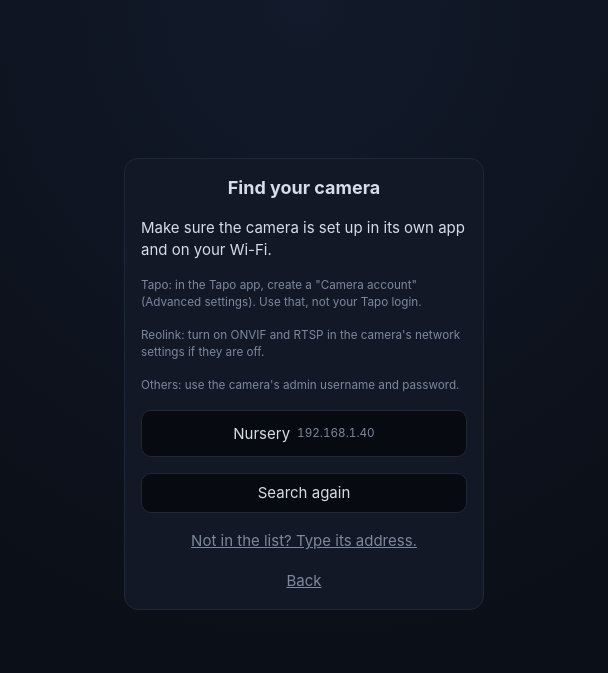
Test: typed rtsp URL goes to check
Click the button "Not in the list? Type its address." at (304, 541), box [141, 529, 467, 553]
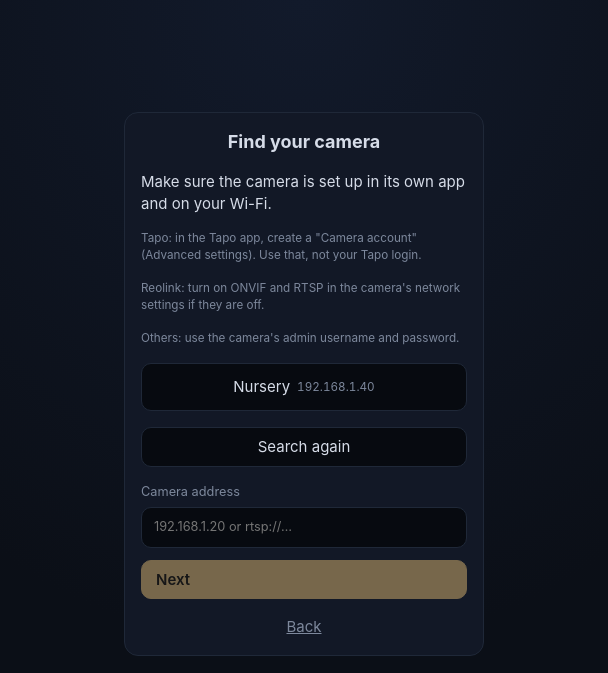
Type "rtsp://192.168.1.41:554/live" into the field labelled "Camera address" at (304, 527), box [141, 507, 467, 548]
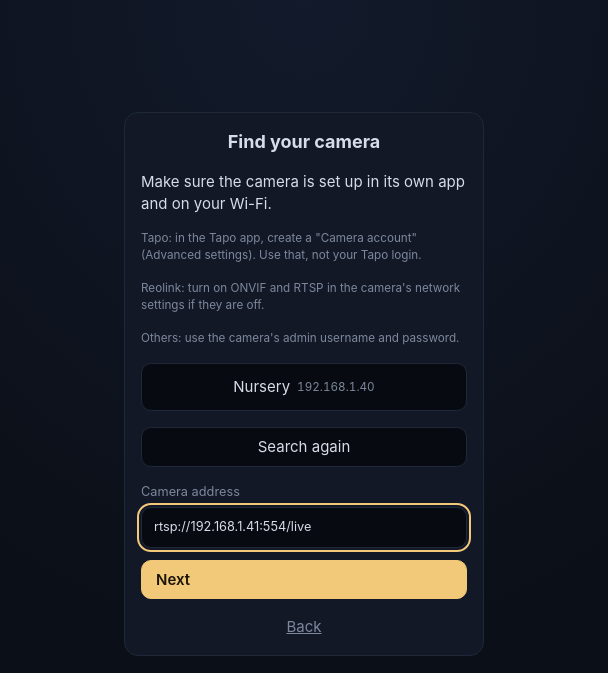
Click the button "Next" at (173, 579), box [141, 560, 467, 600]
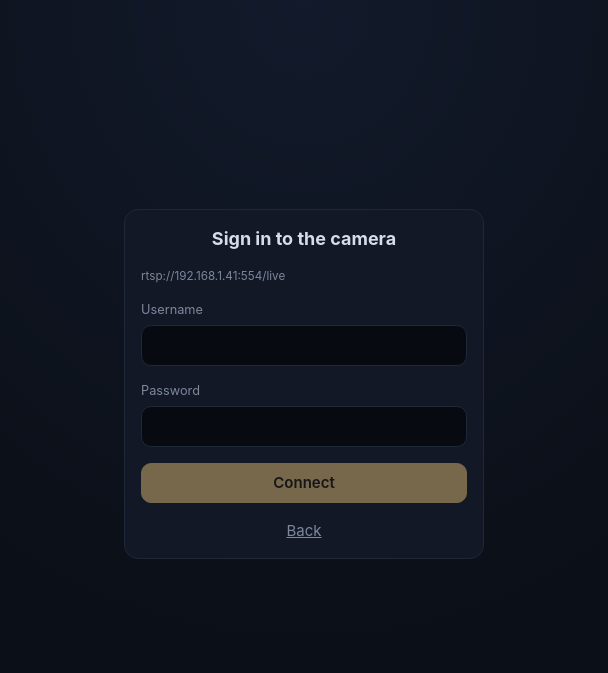
Type "admin" into the field labelled "Username" at (304, 346), box [141, 325, 467, 366]
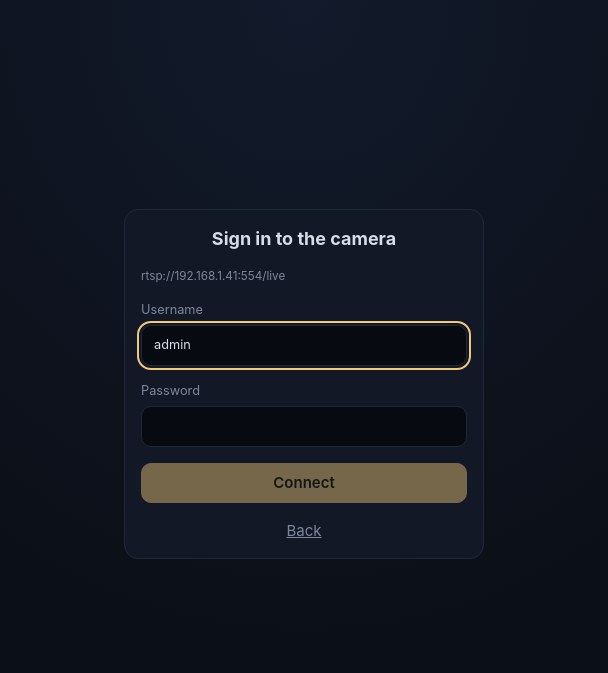
Type "cam-pass" into the password field labelled "Password" at (304, 427), box [141, 406, 467, 447]
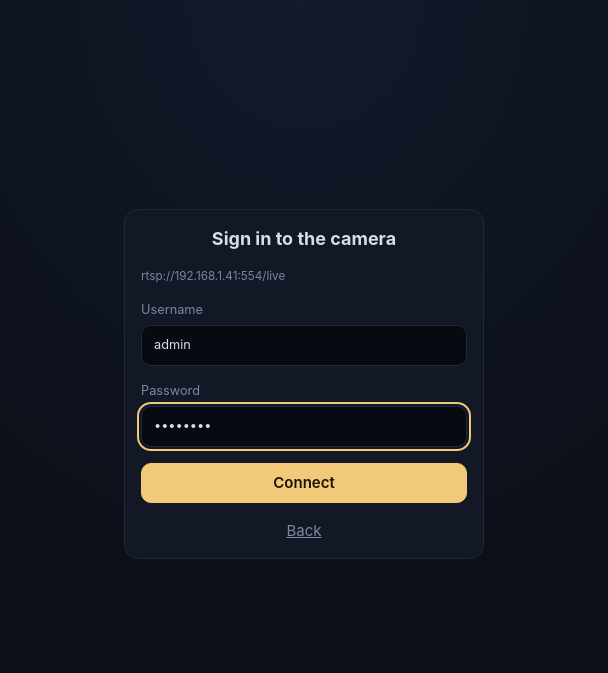
Click the button "Connect" at (304, 483), box [141, 463, 467, 503]
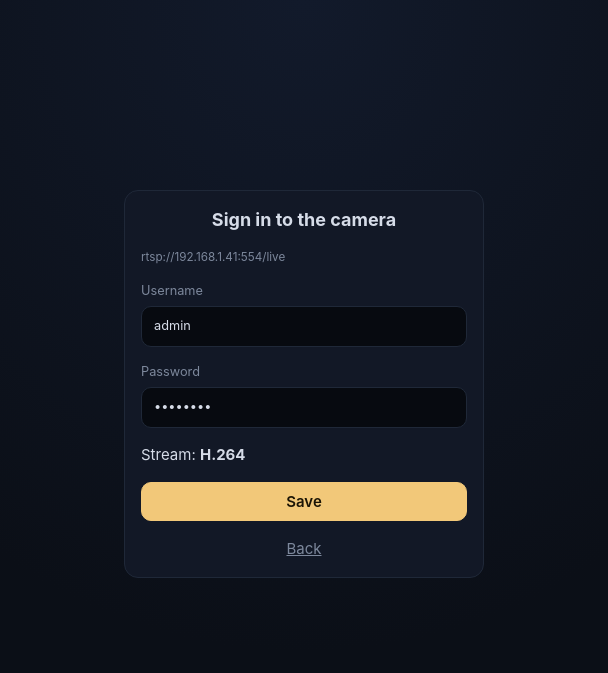
Check: the text "H.264" is shown, box [200, 445, 246, 464]
